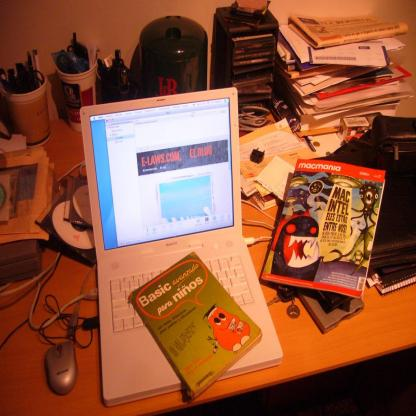board: (77, 87, 283, 408)
